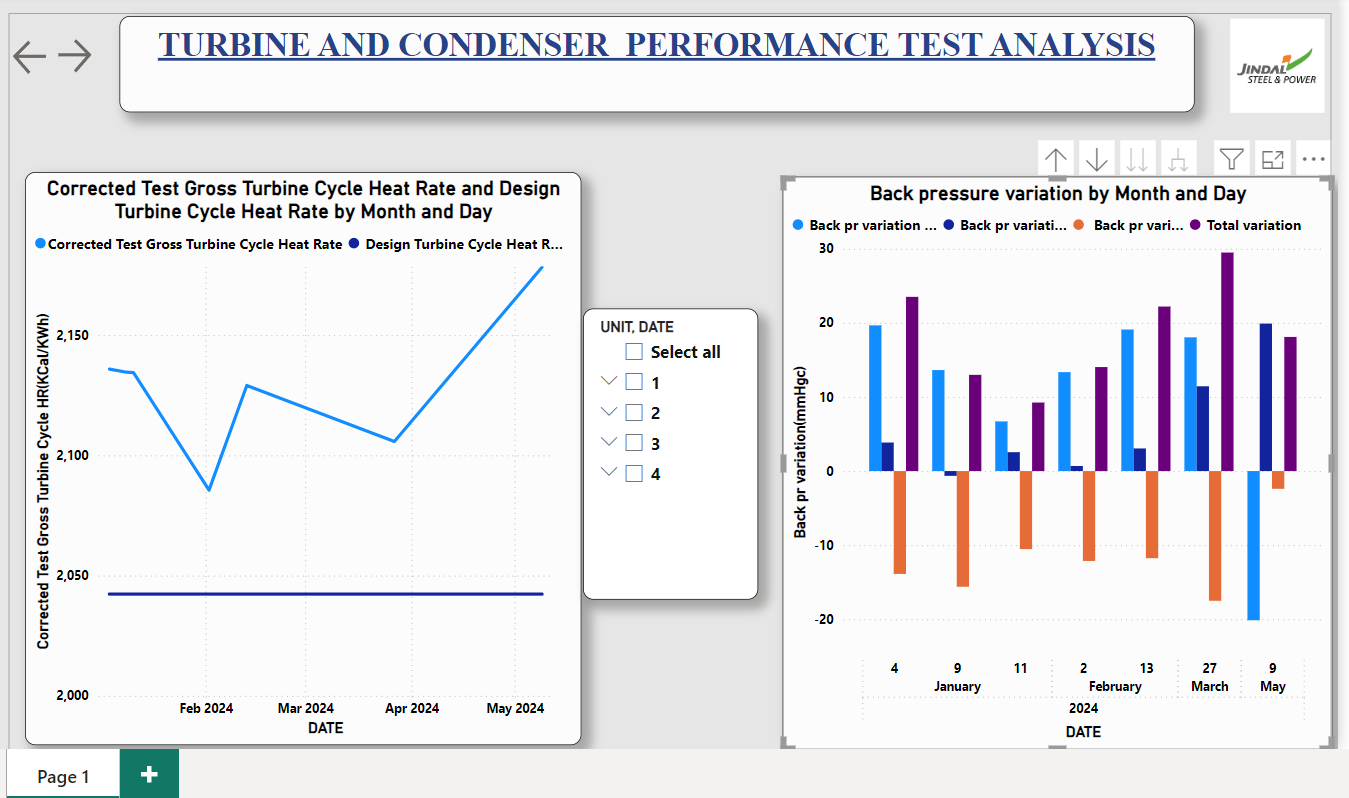

This screenshot's page, from the dashboard's own definition file:
{"tool":"powerbi","page":{"name":"Page 1","canvas":[1280,720],"ordinal":0},"visuals":[{"type":"group","id":"g1","title":"pt 2","box":[0,12.3,1265.2,703.5],"z":0},{"type":"image","box":[1156.8,12.3,108.4,100.2],"z":4000,"group":"g1"},{"type":"slicer","fields":{"Values":["TURBINE.UNIT","TURBINE.DATE"]},"box":[559.3,298.8,167.4,277.9],"z":4000},{"type":"actionButton","box":[41.5,31.9,57.7,41.9],"z":5000,"group":"g1"},{"type":"lineChart","title":"Corrected Test Gross Turbine Cycle Heat Rate and  Design Turbine Cycle Heat Rate by Month and Day","fields":{"Y":["Sum(TURBINE.Corrected Test Gross Turbine Cycle Heat Rate)","Sum(TURBINE.Design Turbine Cycle Heat Rate)"],"Category":["TURBINE.DATE.Variation.Date Hierarchy.Year","TURBINE.DATE.Variation.Date Hierarchy.Month","TURBINE.DATE.Variation.Date Hierarchy.Day"]},"box":[16.3,163.9,531,547.5],"z":6000,"group":"g1"},{"type":"clusteredColumnChart","title":" Back pressure variation by Month and Day","fields":{"Y":["Sum(CONDENSER.Back pr variation due to air and dirty tube ( Bad performance of condenser))","Sum(CONDENSER.Back pr variation due to cw flow )","Sum(CONDENSER. Back pr variation due to cw inlet temp)","Sum(CONDENSER.Total variation)"],"Category":["TURBINE.DATE.Variation.Date Hierarchy.Year","TURBINE.DATE.Variation.Date Hierarchy.Month","TURBINE.DATE.Variation.Date Hierarchy.Day"]},"box":[739.6,168.3,525.6,547.5],"z":7000,"group":"g1"},{"type":"textbox","box":[105.7,14.9,1026.4,91.9],"z":8000,"group":"g1"},{"type":"actionButton","box":[0,33.2,44.5,41.9],"z":9000,"group":"g1"}]}

Visuals, with their boxes in screenshot pixels (x1, y1, x2, y2):
"pt 2" group: pyautogui.locateOnScreen(14, 13, 1329, 744)
image: pyautogui.locateOnScreen(1216, 13, 1329, 117)
slicer - TURBINE.UNIT x TURBINE.DATE: pyautogui.locateOnScreen(595, 311, 769, 599)
actionButton: pyautogui.locateOnScreen(57, 33, 117, 77)
"Corrected Test Gross Turbine Cycle Heat Rate and  Design Turbine Cycle Heat Rate by Month and Day" lineChart: pyautogui.locateOnScreen(31, 170, 583, 739)
" Back pressure variation by Month and Day" clusteredColumnChart: pyautogui.locateOnScreen(783, 175, 1329, 744)
textbox: pyautogui.locateOnScreen(124, 15, 1191, 111)
actionButton: pyautogui.locateOnScreen(14, 35, 60, 78)
